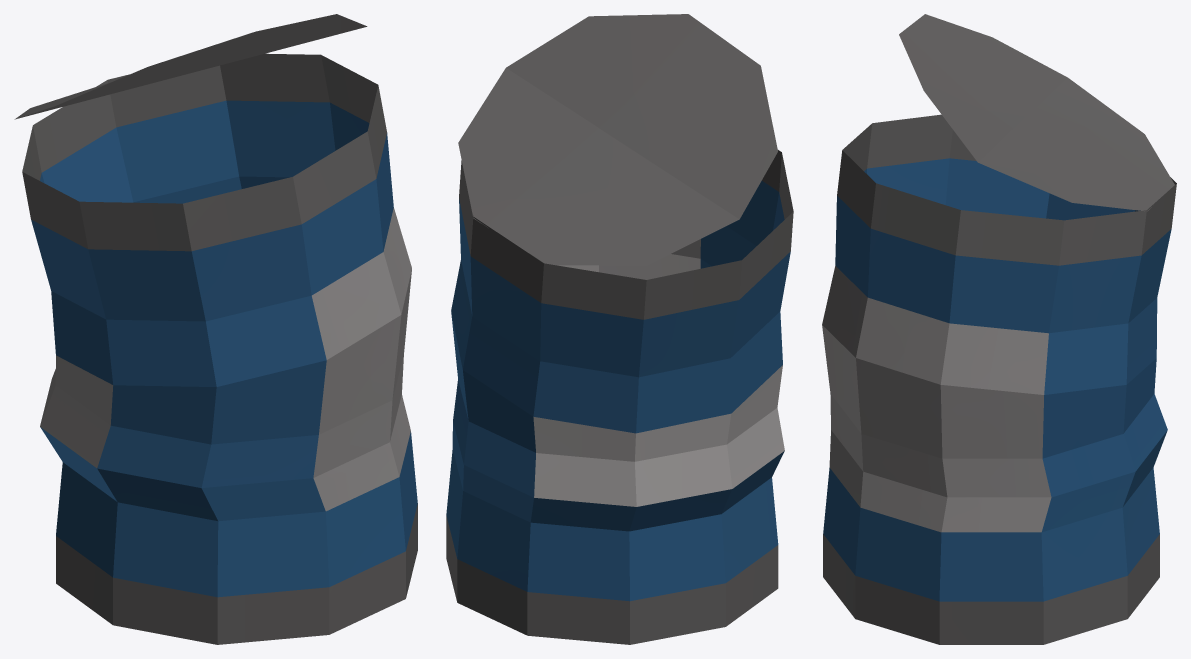
File: FoodcanOpen.fbx
3 views of the same model, side by side, from view 1: azimuth 30°, elevation 25°; view 2: azimuth 150°, elevation 25°; view 3: azimuth 270°, elevation 25° (orthographic). The views are drawn at different scales.
Visible parts, largest first — view 1: Foodcan Open; view 2: Foodcan Open; view 3: Foodcan Open.
Boxes of the visible parts, bbox=[...] form: Foodcan Open: bbox=[14, 14, 417, 644]; Foodcan Open: bbox=[446, 14, 793, 644]; Foodcan Open: bbox=[822, 14, 1176, 644].
Bounding box in the file's own units: 8.02 × 13.33 × 8.11.
Materials: 1 (1 with a texture image).
